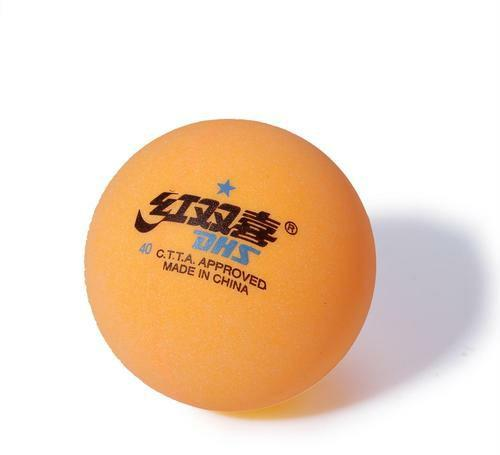ball: (79, 113, 379, 414)
